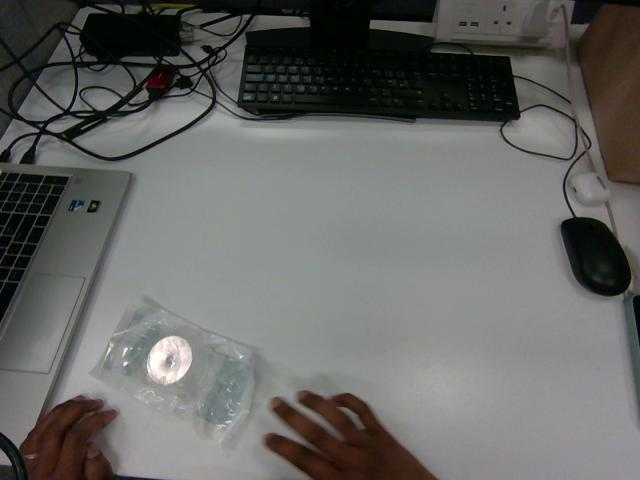gallipot: (92, 299, 253, 445)
